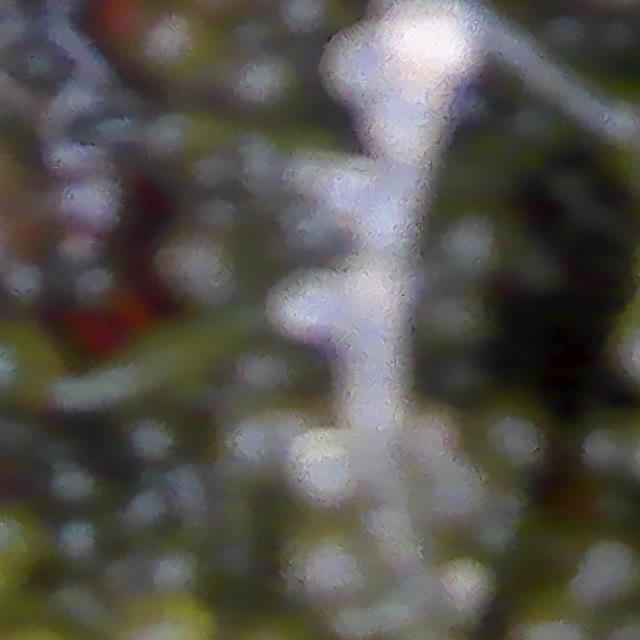SeaGrape: (391, 4, 466, 76), (269, 274, 337, 340), (575, 538, 640, 606), (328, 45, 391, 112), (289, 431, 347, 503), (384, 105, 435, 170), (321, 162, 371, 215)
